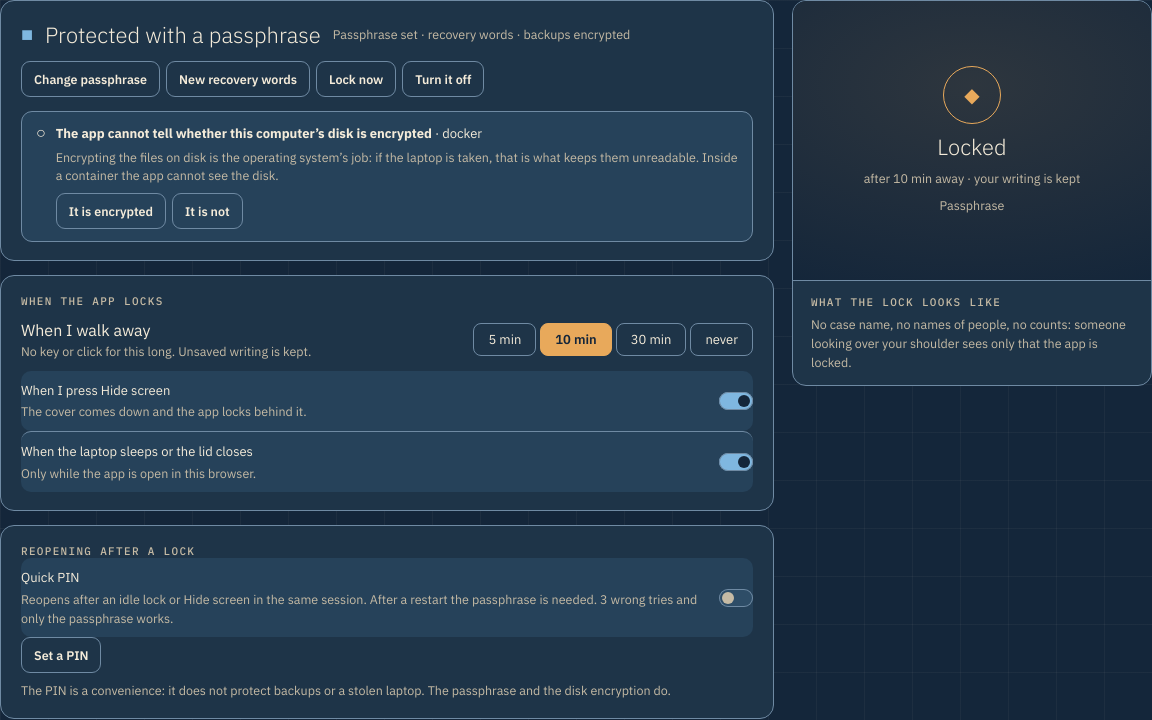
Settings › Your safety and People and access › saves when the app locks, and asks the reporter about a disk the app cannot see
Click the radio button labelled "30 min" at {"x": 651, "y": 339}, box [616, 323, 686, 356]
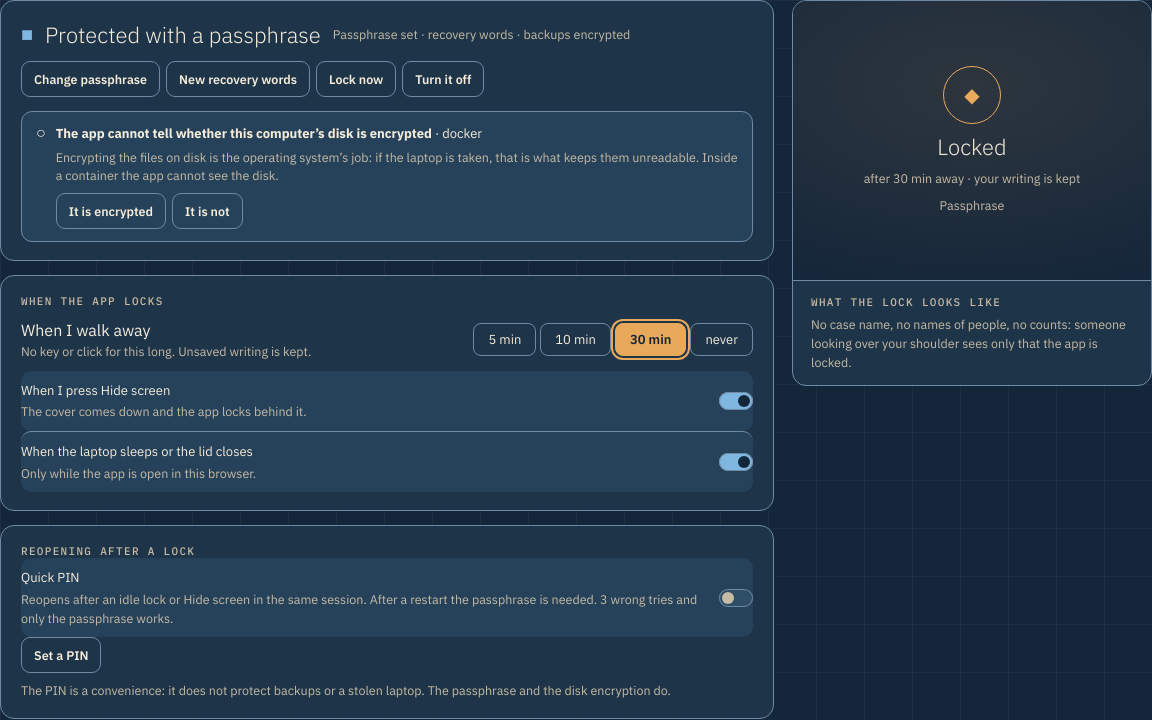
Result: the radio button labelled "30 min" is checked at [615, 323, 686, 356]
Click the button "It is encrypted" at {"x": 111, "y": 211}, box [56, 193, 166, 229]
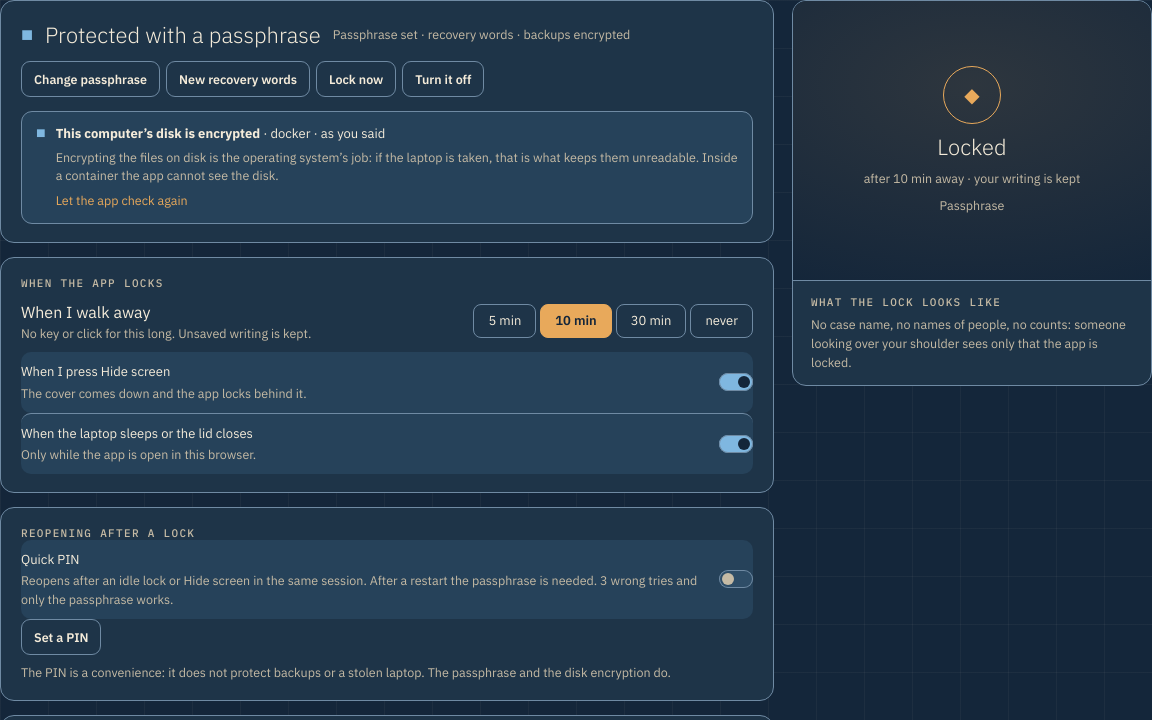
Result: the text "as you said" is shown at [310, 125, 385, 142]
